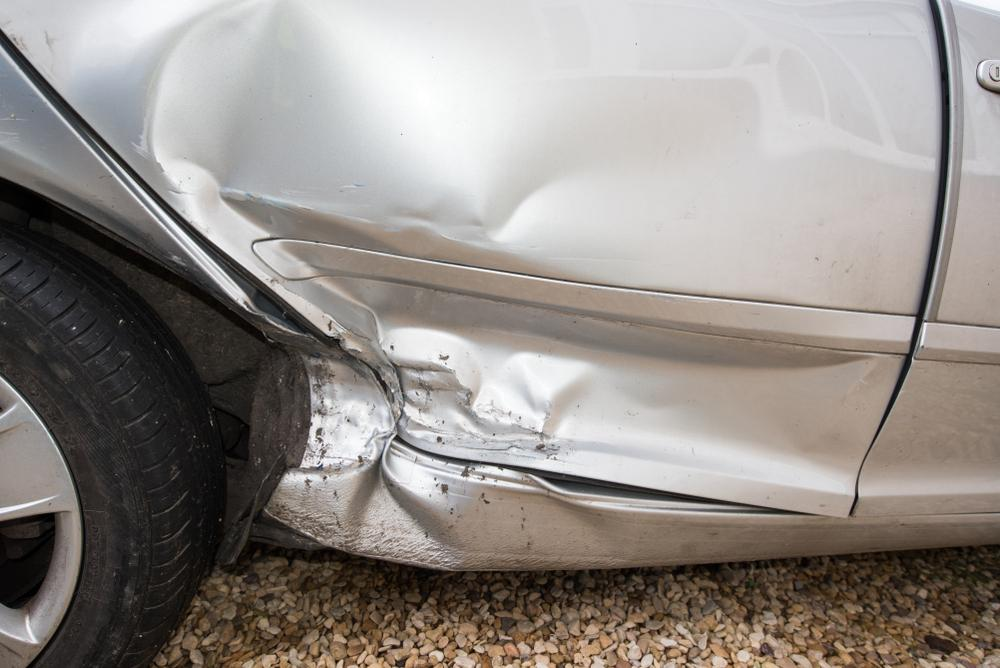dent: (135, 0, 748, 484), (283, 336, 469, 558)
